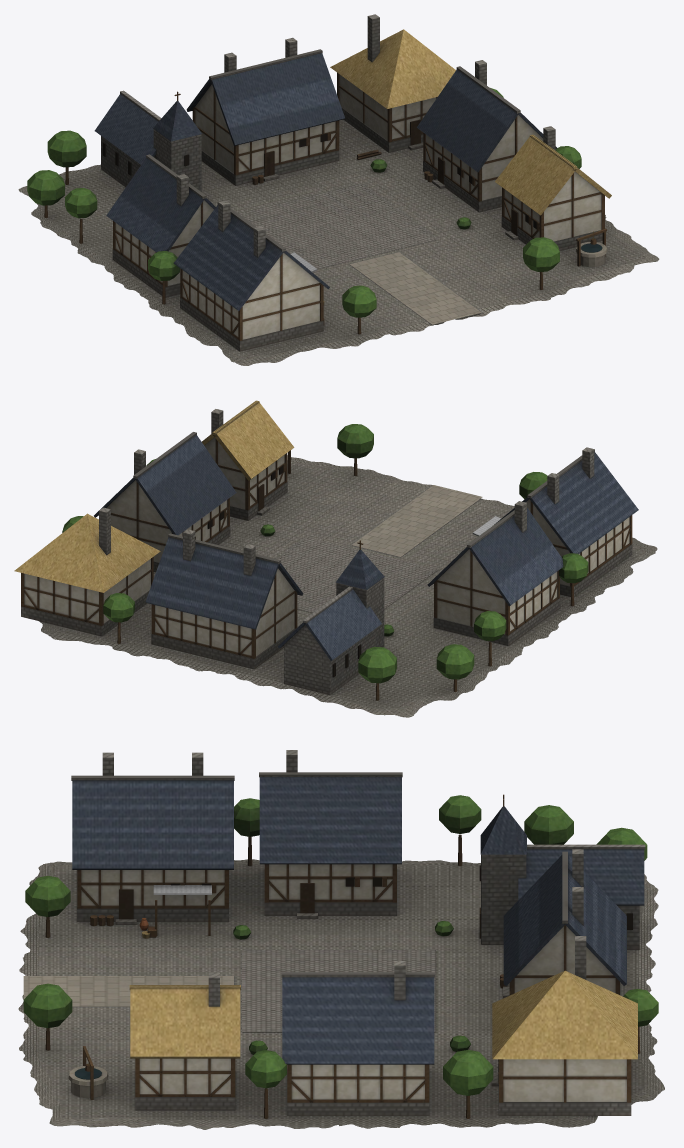
File: kingdoms-town-small-a.glb
3 views of the same model, one above another, from view 1: azimuth 30°, elevation 25°; view 2: azimuth 150°, elevation 25°; view 3: azimuth 270°, elevation 25° (orthographic). The views are drawn at different scales.
Visible parts, largest first — view 1: LOD0; view 2: LOD0; view 3: LOD0.
Boxes of the visible parts, <box> form: LOD0: <box>18,14,659,365</box>; LOD0: <box>14,400,657,717</box>; LOD0: <box>18,750,664,1129</box>.
Size of what is drawn, in the model's own units: 4.02 by 0.9899 by 4.06.
3 materials, 3 textured.
